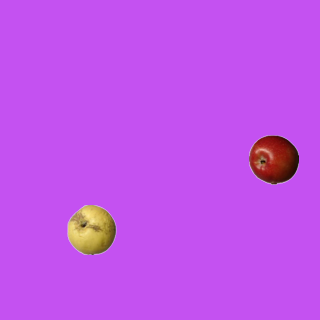Apple Braeburn: (248, 134, 298, 184)
Apple Golden 1: (66, 204, 116, 254)
